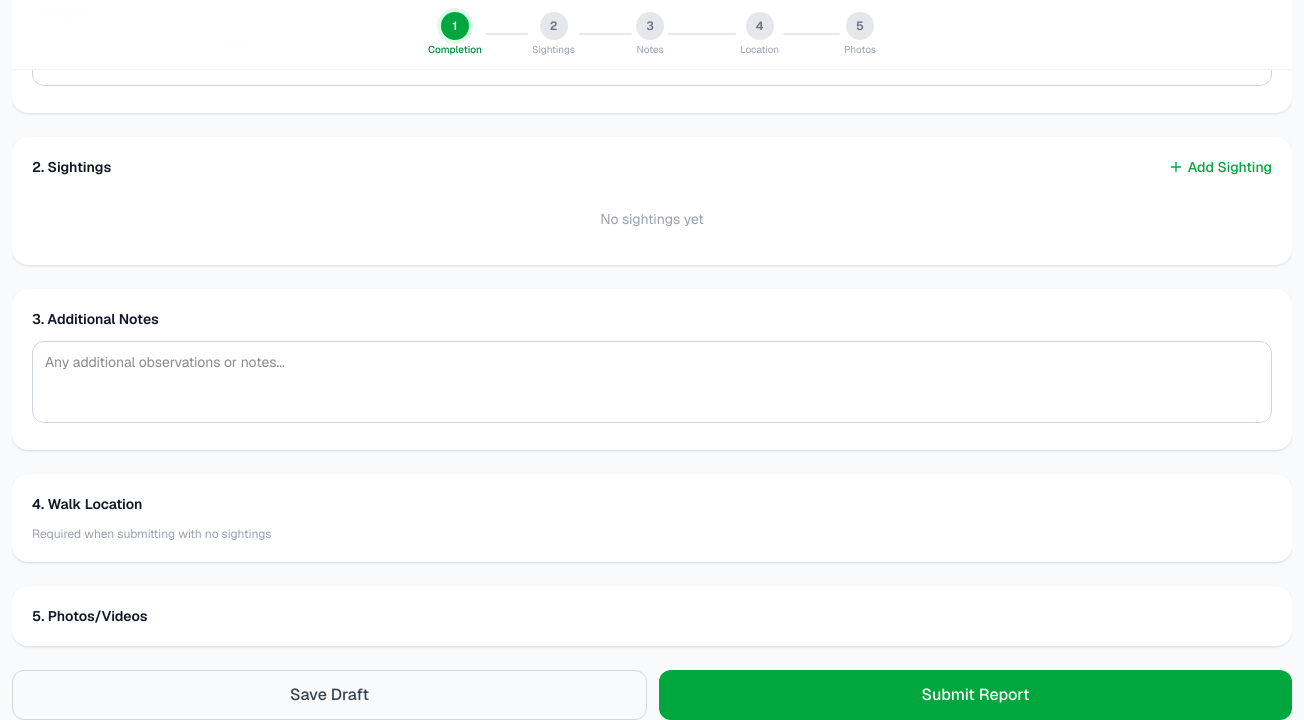
it: a delayed save does not clear the warning for a newer edit
(page scrolled)
Type "revision one" into the text box with placeholder "Any additional observations or notes...". click: coordinates (652, 382)
box: [32,340,1272,422]
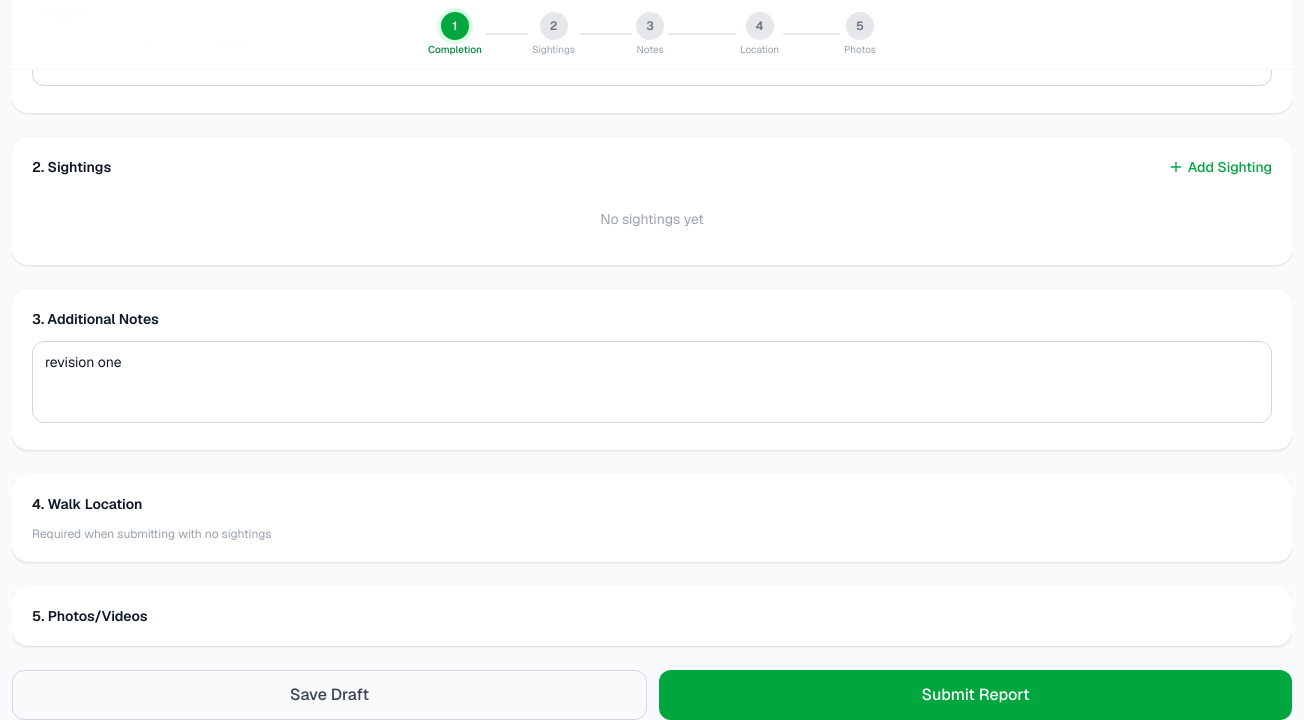
Click the button "Save Draft". click: coordinates (330, 694)
box: [12,670,647,719]
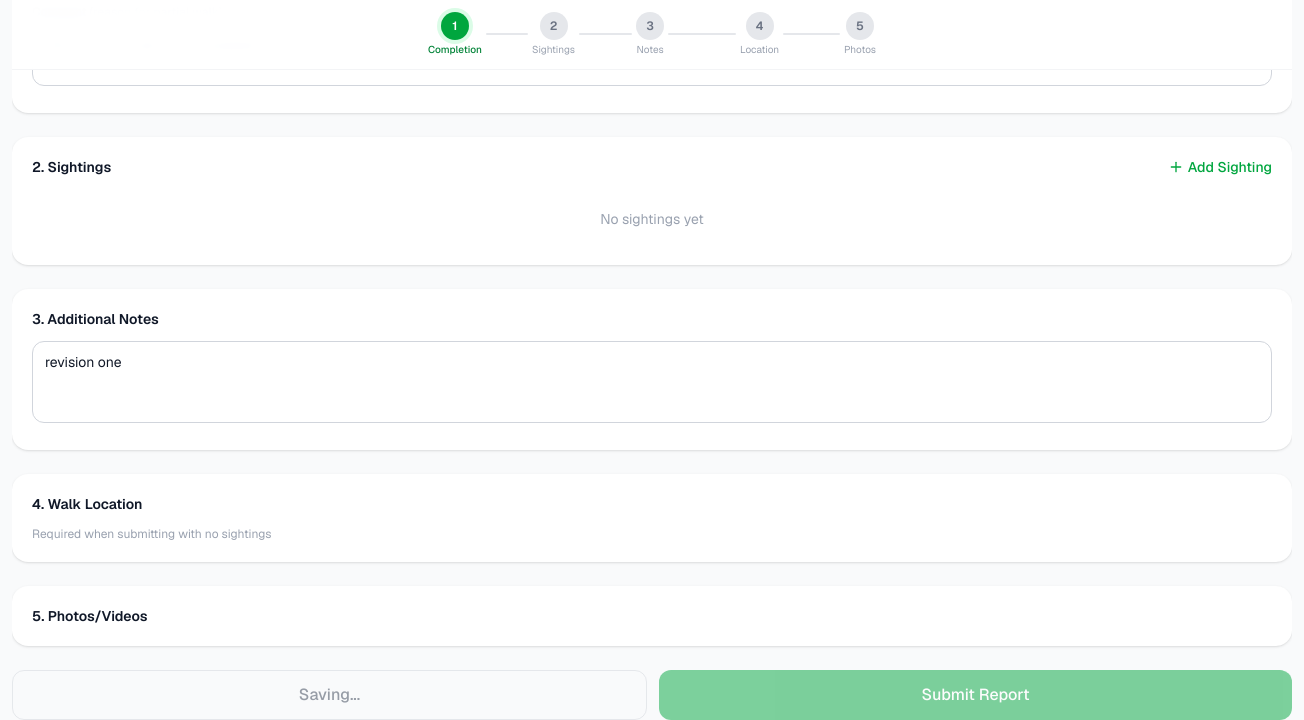
Replace the text in the text box with placeholder "Any additional observations or notes..." with "revision two". click: coordinates (652, 382)
box: [32,340,1272,422]
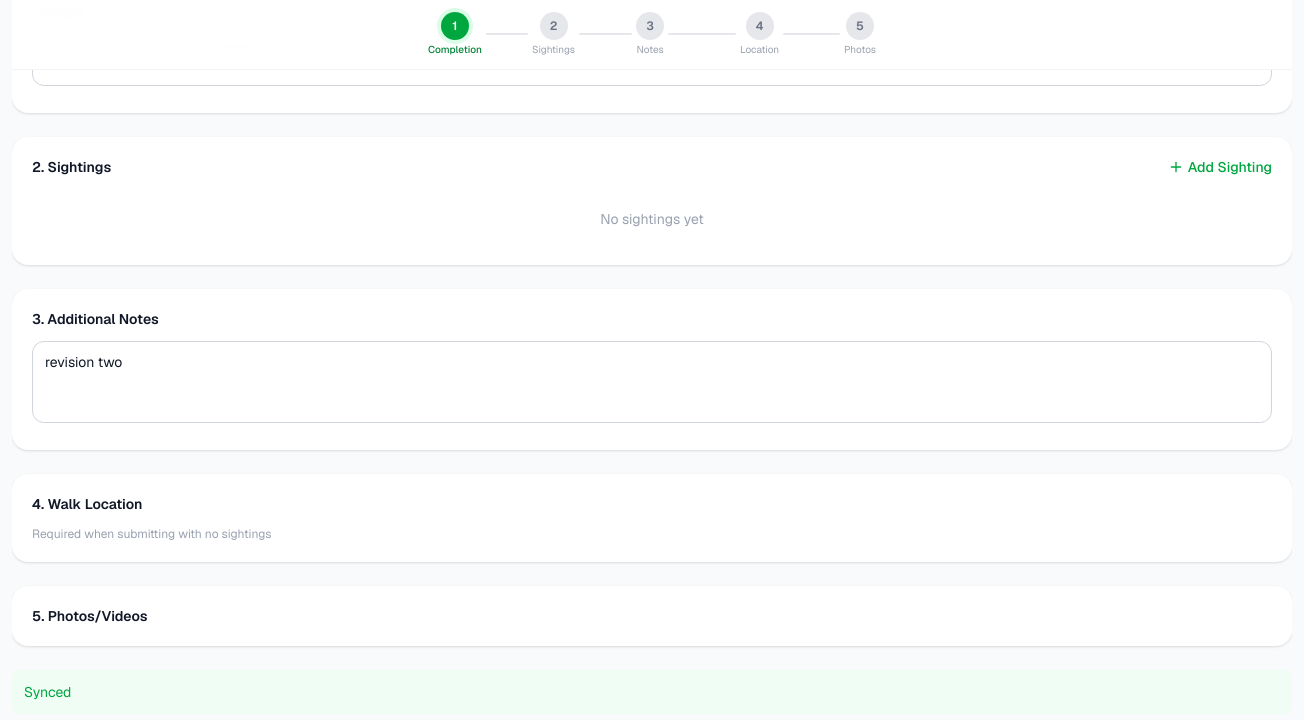
Expected: the text "Synced" is shown, [12,670,1292,714]
